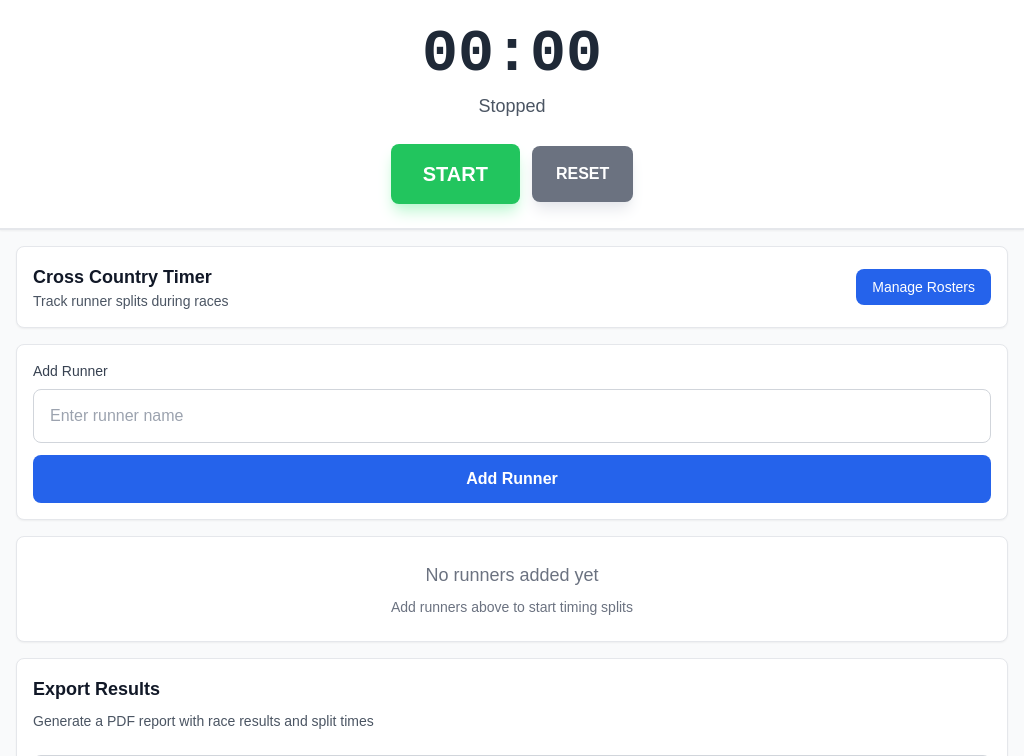
Test: Reset Functionality › should cancel reset when cancel is clicked
Click the button with aria-label "Reset timer and clear all data". click: (583, 174)
box: [532,146,633,202]
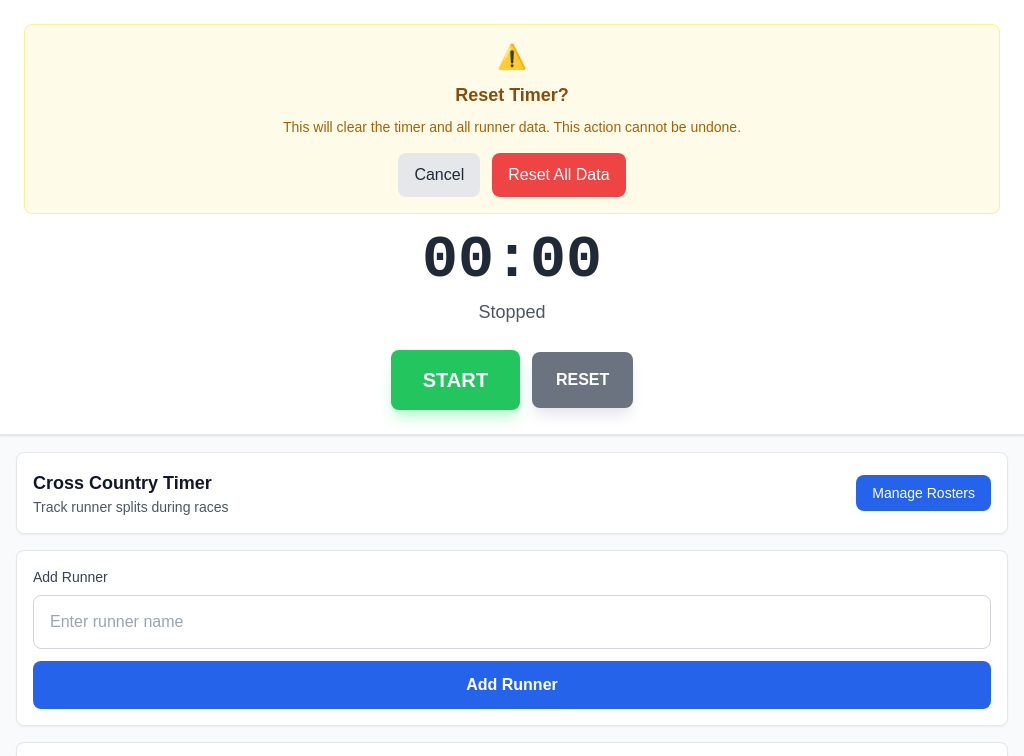
Click the button "Cancel". click: (439, 175)
box: [398,153,480,197]
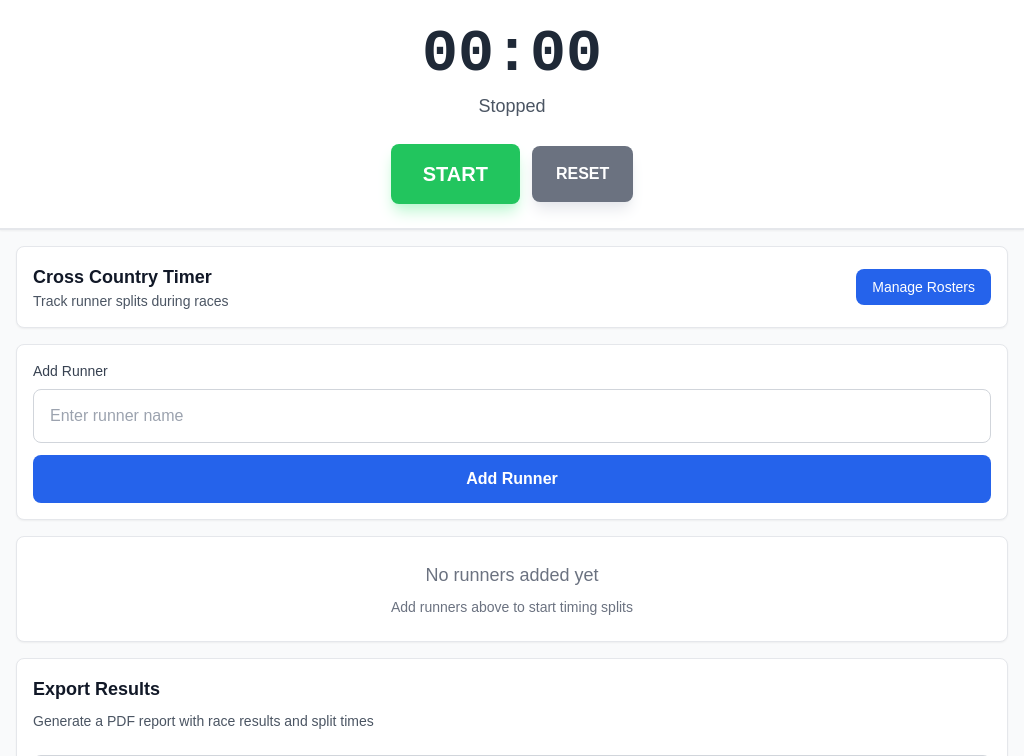
Result: the heading "Reset Timer?" is gone
